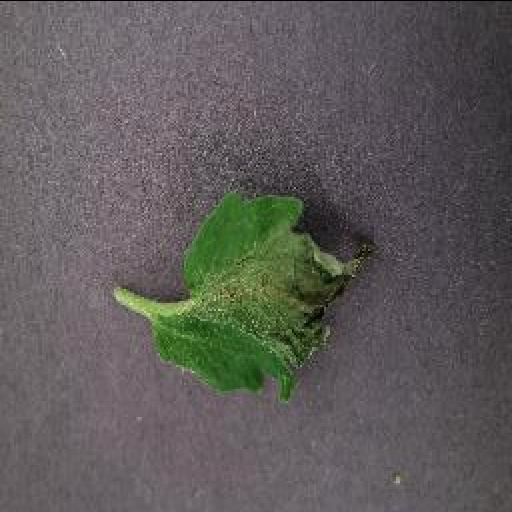disease_tomato: (146, 184, 388, 406)
